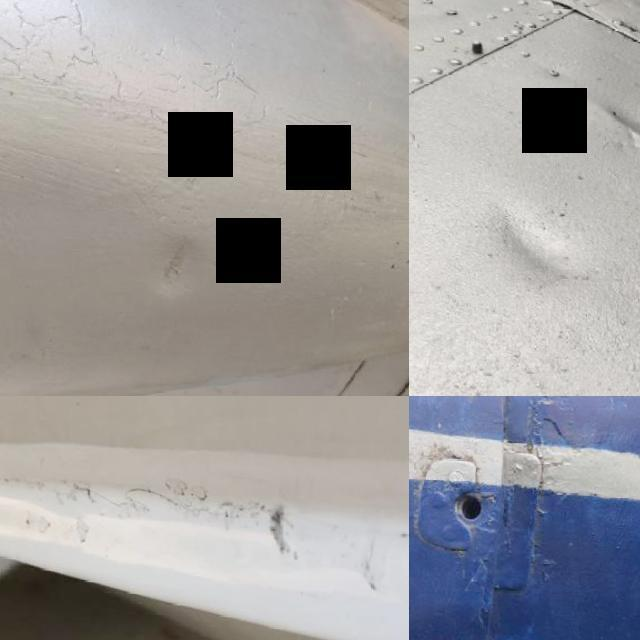Crack: (25, 480, 293, 526)
Dent: (454, 180, 618, 338), (125, 213, 226, 308), (583, 65, 640, 200)
Missing_Fastener: (409, 453, 513, 561)
